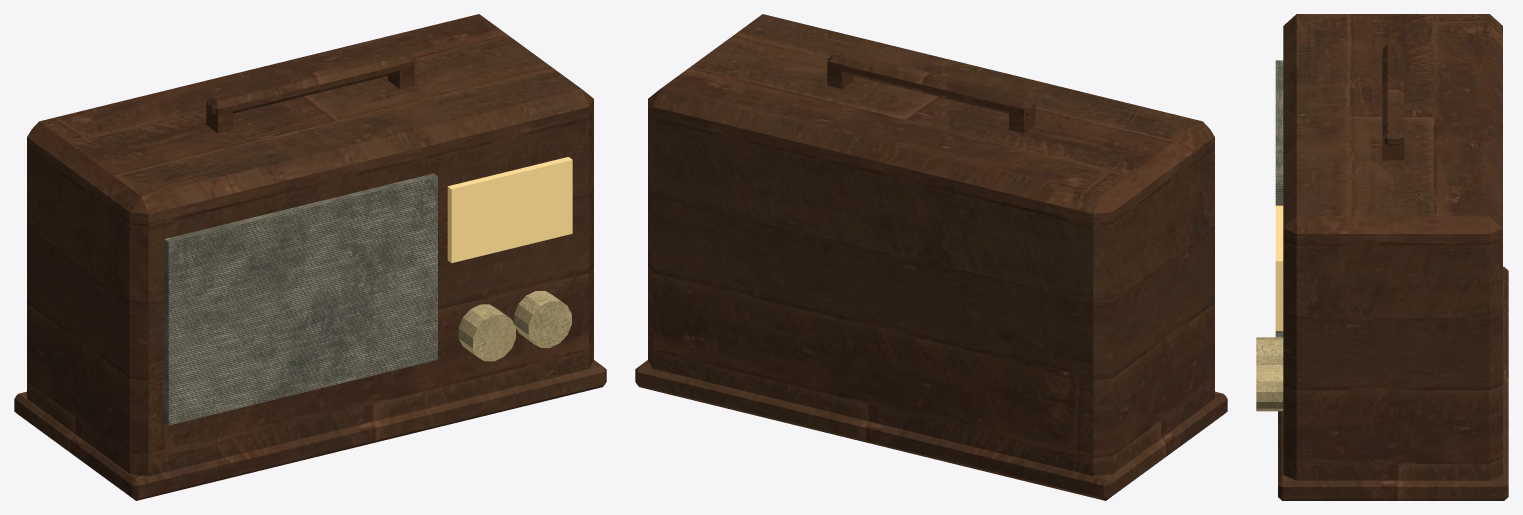
Rendered from old-radio.glb.
3 views of the same model, side by side, from view 1: azimuth 30°, elevation 25°; view 2: azimuth 150°, elevation 25°; view 3: azimuth 270°, elevation 25° (orthographic). The views are drawn at different scales.
Parts seen in each view (by area): view 1: Cabinet, Grille, Dial, Knobs; view 2: Cabinet; view 3: Cabinet, Knobs, Grille, Dial.
Boxes of the visible parts, x1=… form: Cabinet: x1=14, y1=14, x2=606, y2=500; Grille: x1=164, y1=173, x2=437, y2=425; Dial: x1=447, y1=157, x2=572, y2=263; Knobs: x1=458, y1=291, x2=571, y2=361; Cabinet: x1=635, y1=14, x2=1227, y2=500; Cabinet: x1=1278, y1=14, x2=1508, y2=500; Knobs: x1=1256, y1=337, x2=1283, y2=411; Grille: x1=1275, y1=60, x2=1283, y2=337; Dial: x1=1275, y1=205, x2=1283, y2=330.
Bounding box in the file's own units: 0.47 × 0.3075 × 0.2295.
Materials: 4 (3 with a texture image).
